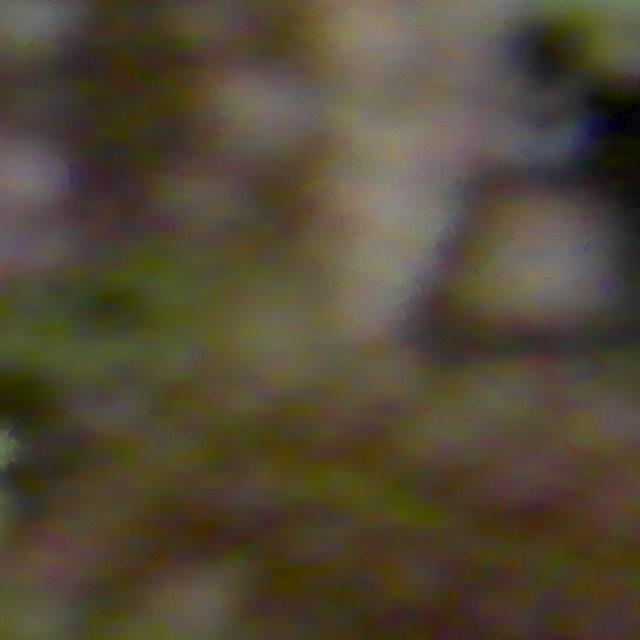SeaGrape: (0, 132, 78, 220)
